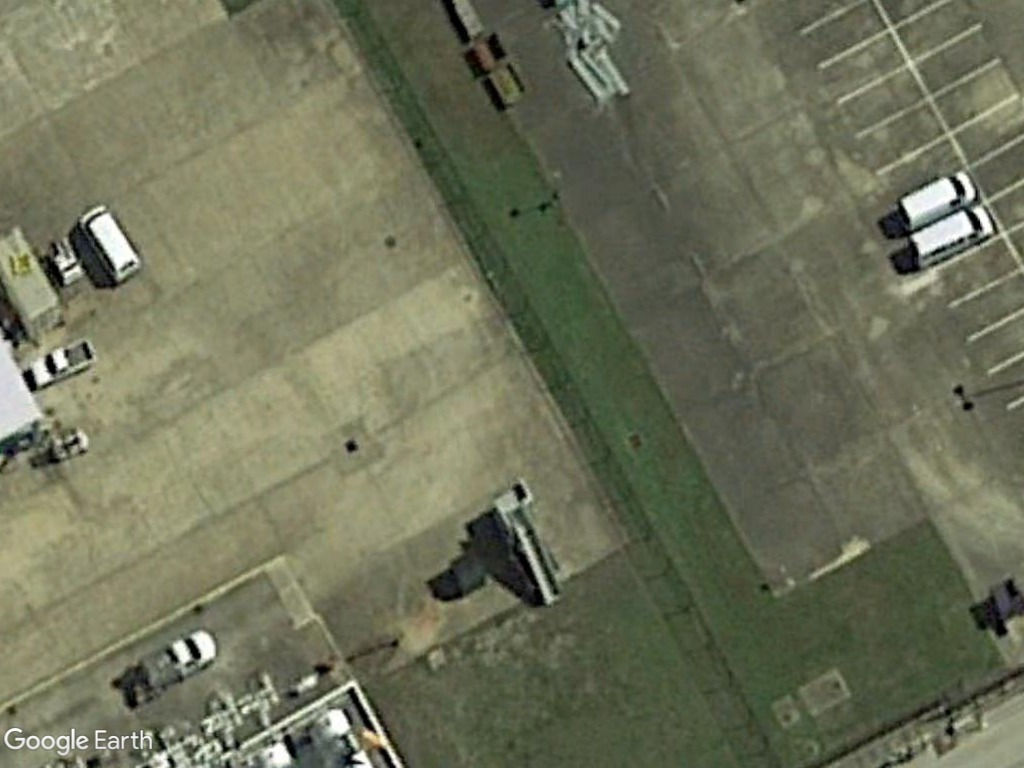other: (24, 336, 104, 387)
van: (901, 201, 1002, 271), (75, 205, 144, 288), (893, 169, 980, 234)
